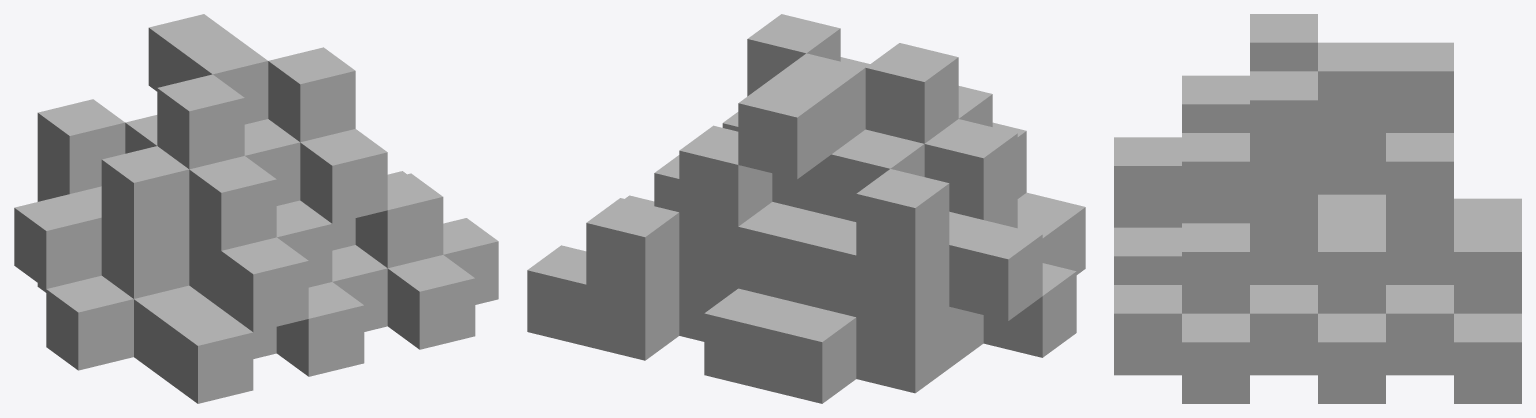
The model's file is silver_dust.dae.
The picture shows the model from 3 angles, left to right: view 1: azimuth 30°, elevation 25°; view 2: azimuth 150°, elevation 25°; view 3: azimuth 270°, elevation 25°; orthographic projection. The views are drawn at different scales.
Parts seen in each view (by area): view 1: silver_dust; view 2: silver_dust; view 3: silver_dust.
Part boxes in pixels (bbox=[...]): silver_dust: bbox=[14, 14, 498, 403]; silver_dust: bbox=[527, 14, 1085, 403]; silver_dust: bbox=[1114, 14, 1521, 403].
Bounding box in the file's own units: 0.7 × 0.4 × 0.6.
1 material, 1 textured.
